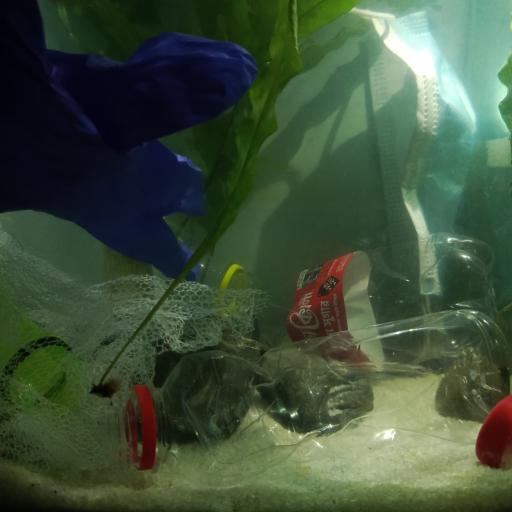bottle_cap: (475, 391, 512, 469)
glove: (1, 0, 260, 283)
mask: (363, 5, 480, 301)
net: (0, 220, 259, 468)
plastic_bottle: (114, 307, 512, 485), (269, 232, 500, 364), (38, 225, 261, 321), (0, 302, 82, 422)
